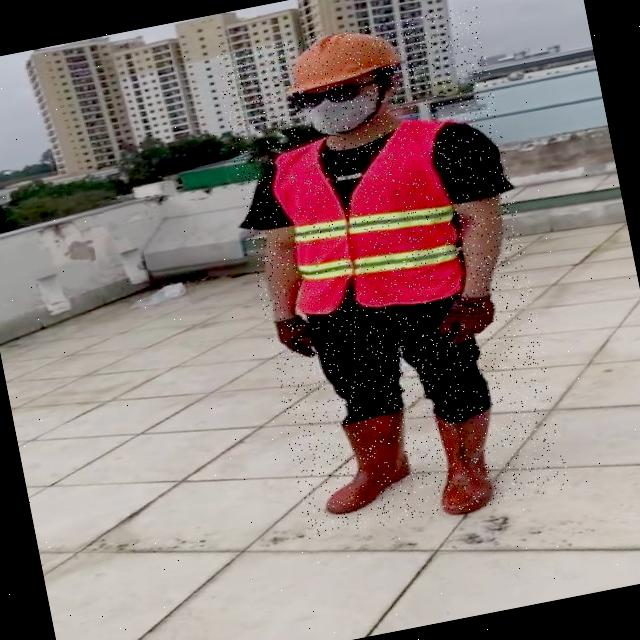boots: (310, 410, 423, 516), (424, 408, 512, 518)
helmet: (270, 22, 408, 98)
vest: (267, 116, 472, 327)
